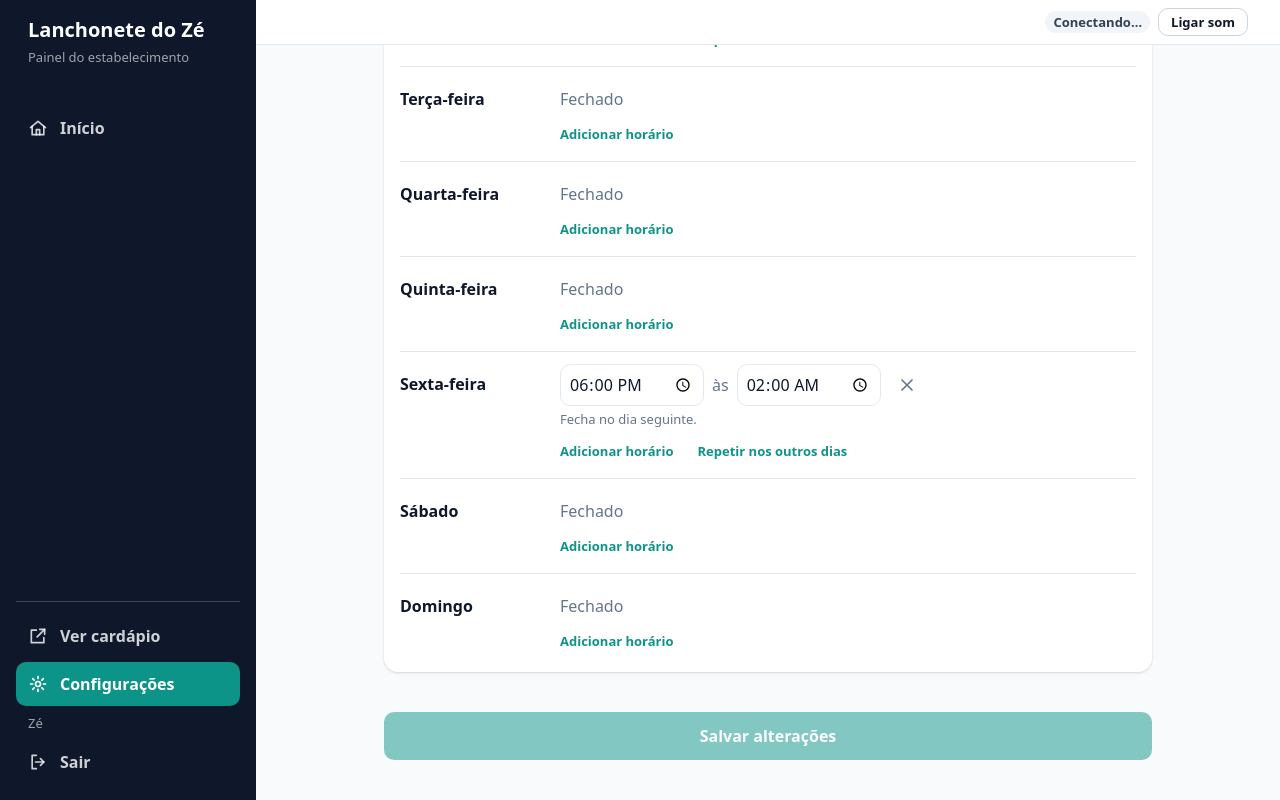
Test: aba de horários › acrescenta um horário e grava a semana inteira, no formato da API
The width and height of the screenshot is (1280, 800).
(page scrolled)
Click the button with aria-label "Adicionar horário: Domingo". click: coordinates (617, 641)
box: x1=552 y1=626 x2=682 y2=656
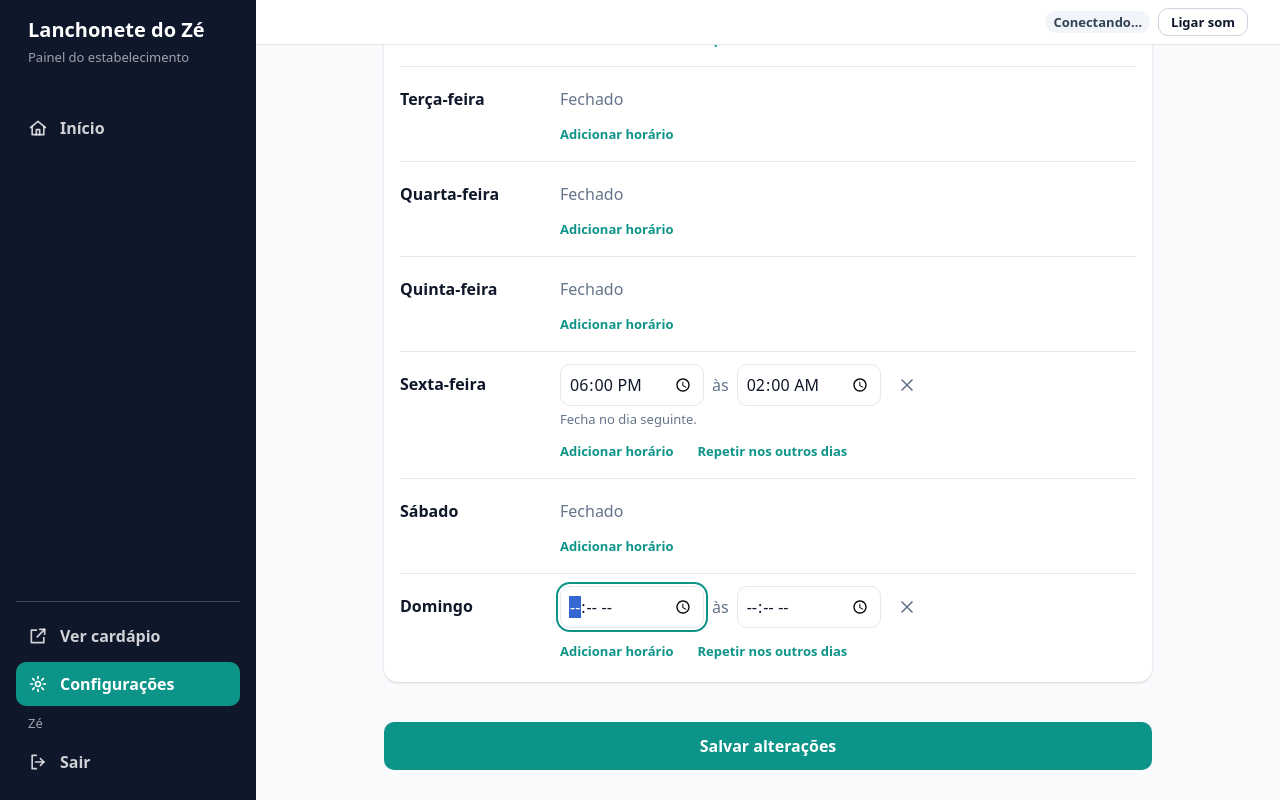
Type "12:00" into the time field named "abre às". click: coordinates (632, 607)
box: x1=560 y1=586 x2=704 y2=628
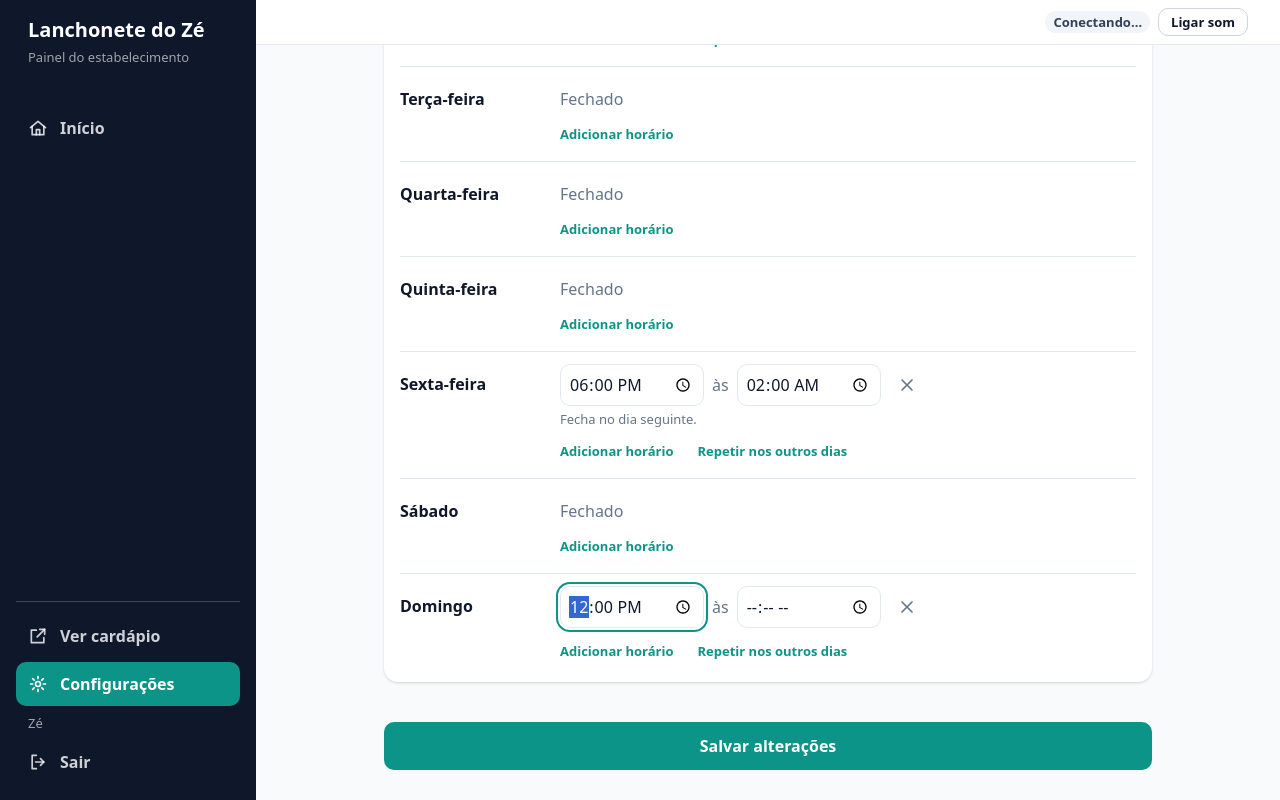
Type "16:00" into the time field named "fecha às". click: coordinates (809, 607)
box: x1=737 y1=586 x2=881 y2=628
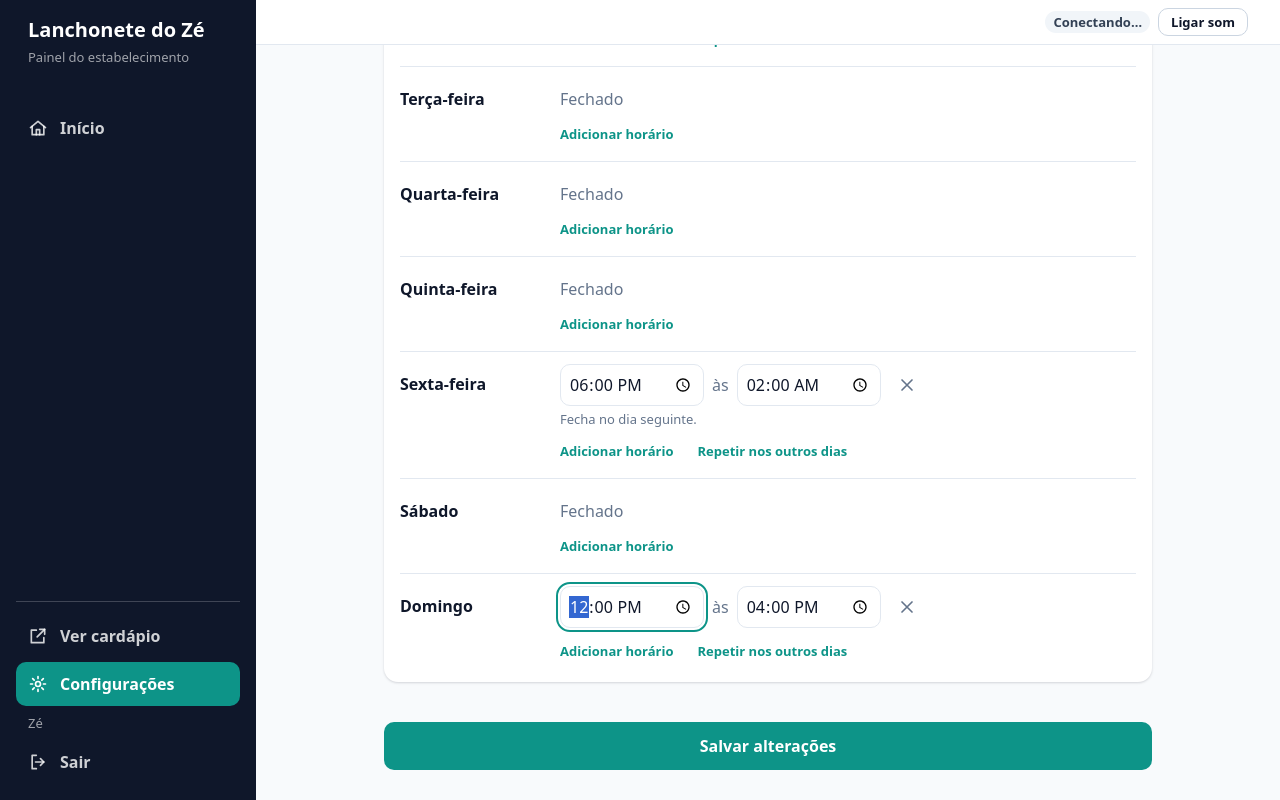
Click the button "Salvar alterações". click: coordinates (768, 746)
box: x1=384 y1=722 x2=1152 y2=770
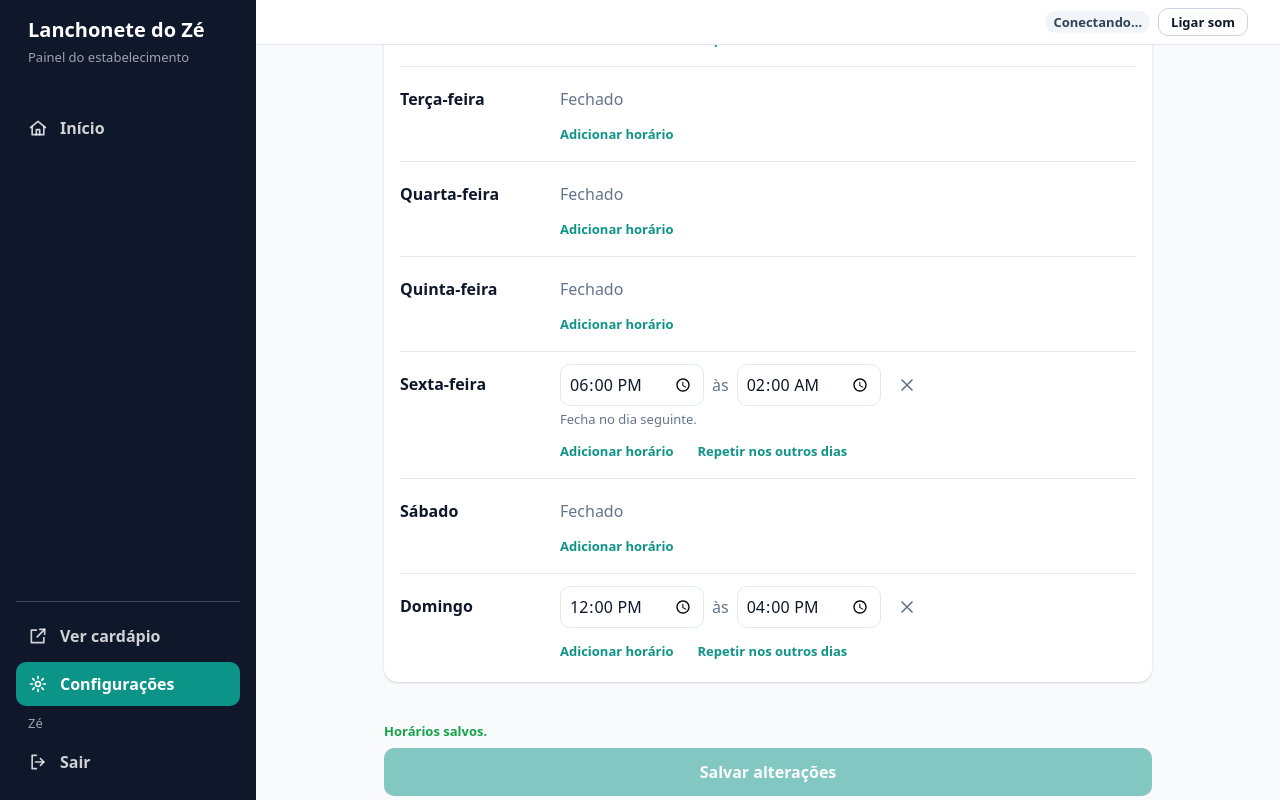
Now the text "Horários salvos." is shown, box x1=384 y1=722 x2=487 y2=740
Now the button "Salvar alterações" is disabled, box x1=384 y1=748 x2=1152 y2=796
